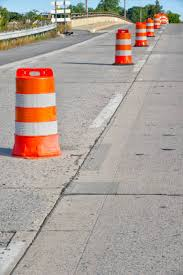barrel: (12, 67, 60, 158), (113, 28, 133, 66), (135, 22, 148, 47), (144, 17, 155, 36), (155, 14, 161, 28), (162, 15, 166, 23)
